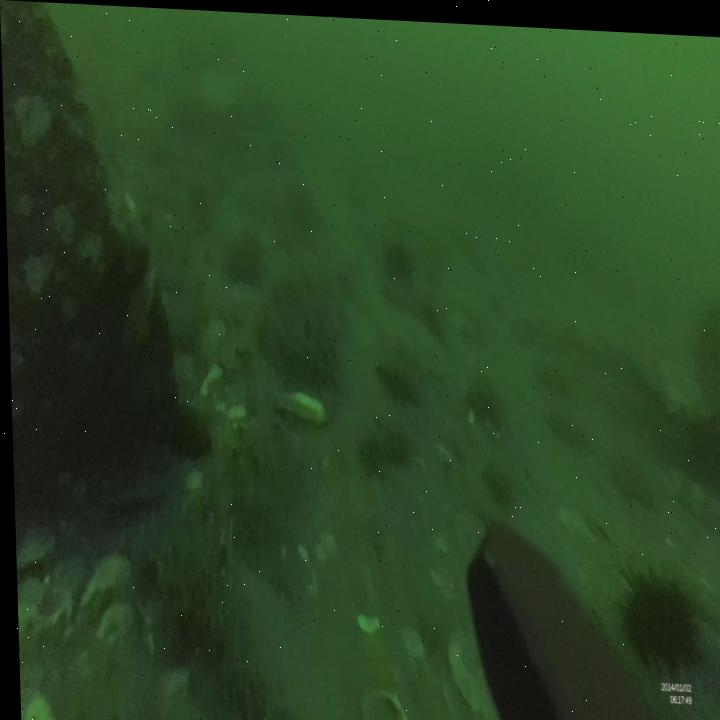echinus: (616, 552, 701, 677)
